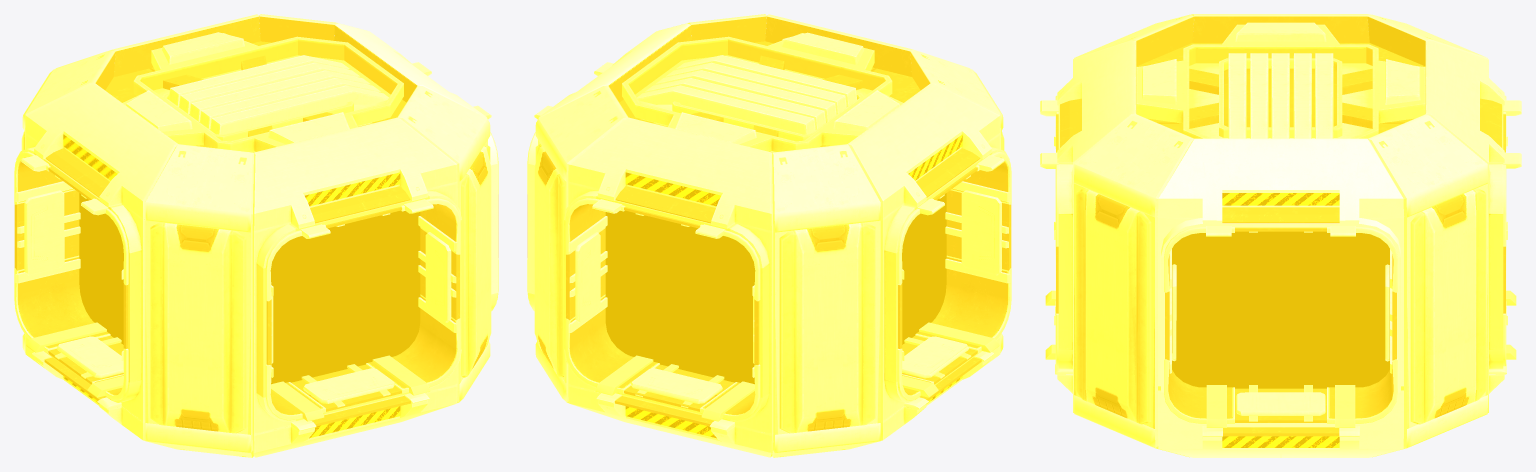
The model's file is splitter-full.glb.
3 views of the same model, side by side, from view 1: azimuth 30°, elevation 25°; view 2: azimuth 150°, elevation 25°; view 3: azimuth 270°, elevation 25° (orthographic). The views are drawn at different scales.
Visible parts, largest first — view 1: SM_Splitter_01; view 2: SM_Splitter_01; view 3: SM_Splitter_01.
Part boxes in pixels (left/top/right/bottom): SM_Splitter_01: left=14, top=14, right=498, bottom=457; SM_Splitter_01: left=527, top=14, right=1011, bottom=457; SM_Splitter_01: left=1040, top=14, right=1521, bottom=457.
Size of the model in its own units: 4.13 by 3.01 by 4.13.
1 material, 1 textured.
